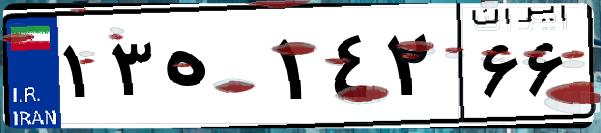1: (270, 28, 330, 110), (57, 26, 110, 100)
2: (385, 28, 445, 110)
3: (110, 28, 158, 98)
4: (330, 28, 385, 110)
6: (475, 38, 525, 113), (525, 38, 570, 115)
ه: (158, 20, 270, 120)
